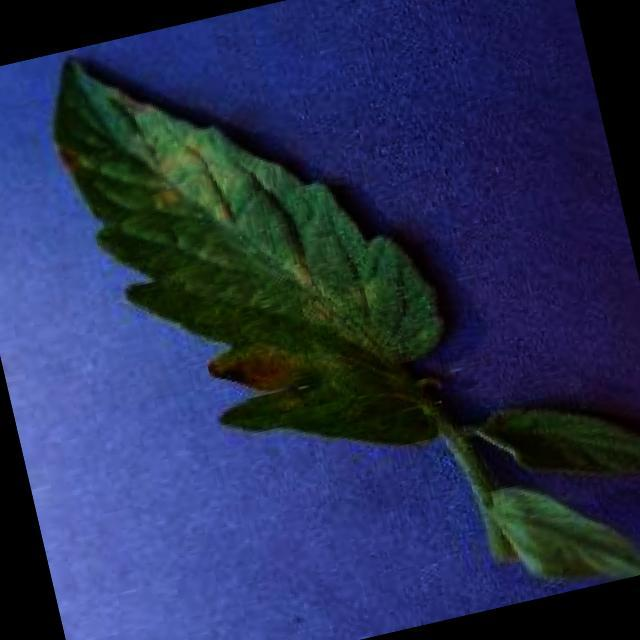Tomato mold leaf: (34, 0, 469, 508)
